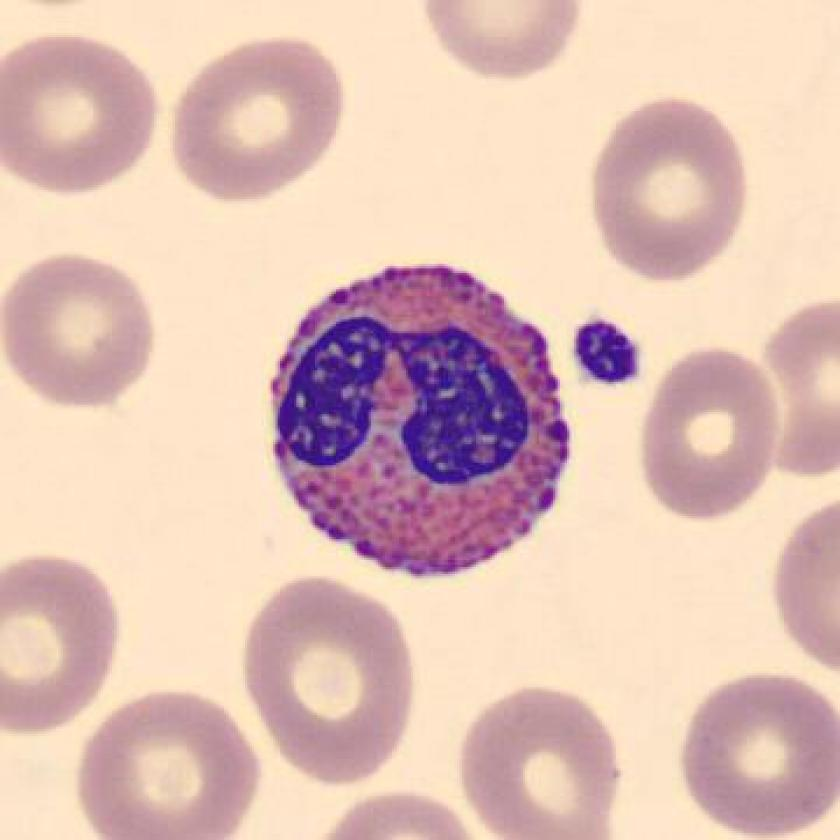eosinophil: (260, 244, 575, 593)
